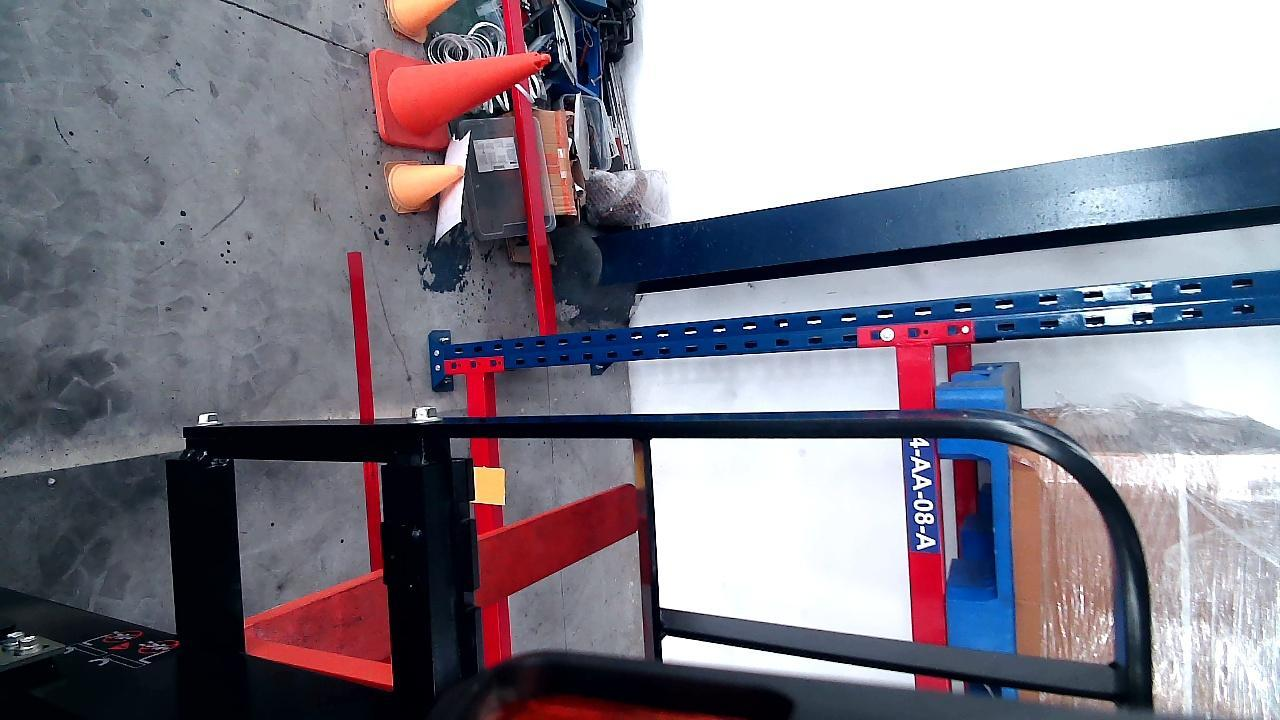red_line: (345, 249, 382, 568)
